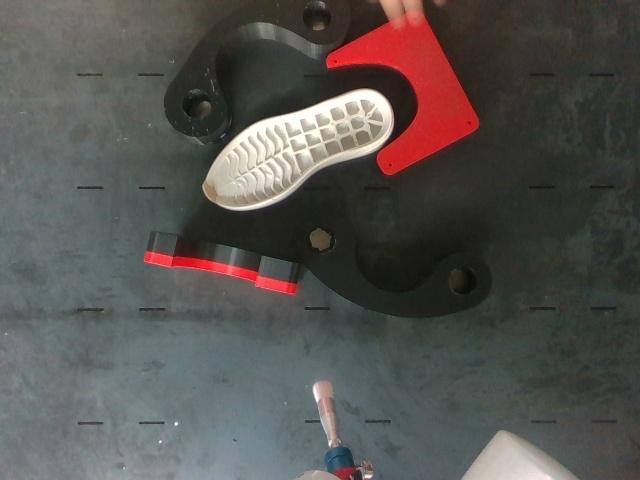shoes: (204, 89, 392, 207)
